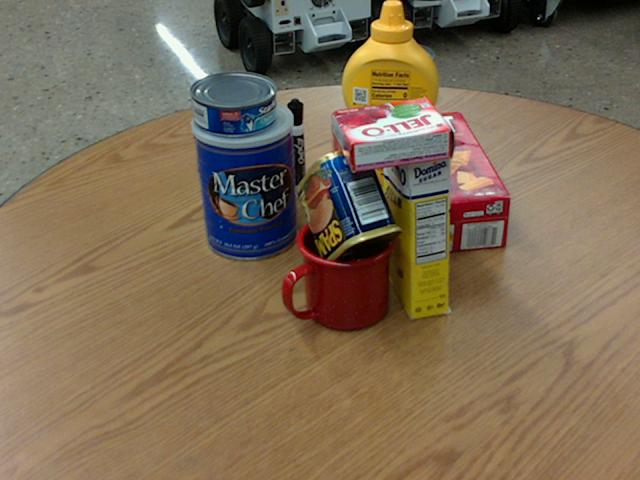cracker_box: (329, 111, 508, 259)
gelatin_box: (332, 96, 452, 170)
large_marker: (286, 100, 305, 200)
master_chef_can: (191, 96, 298, 259)
mug: (278, 213, 393, 332)
mustard_bottle: (341, 0, 438, 194)
potted_meat_can: (295, 147, 402, 271)
sugar_box: (379, 109, 449, 321)
tomato_soup_can: (372, 43, 432, 149)
tuna_fish_can: (189, 71, 275, 135)
